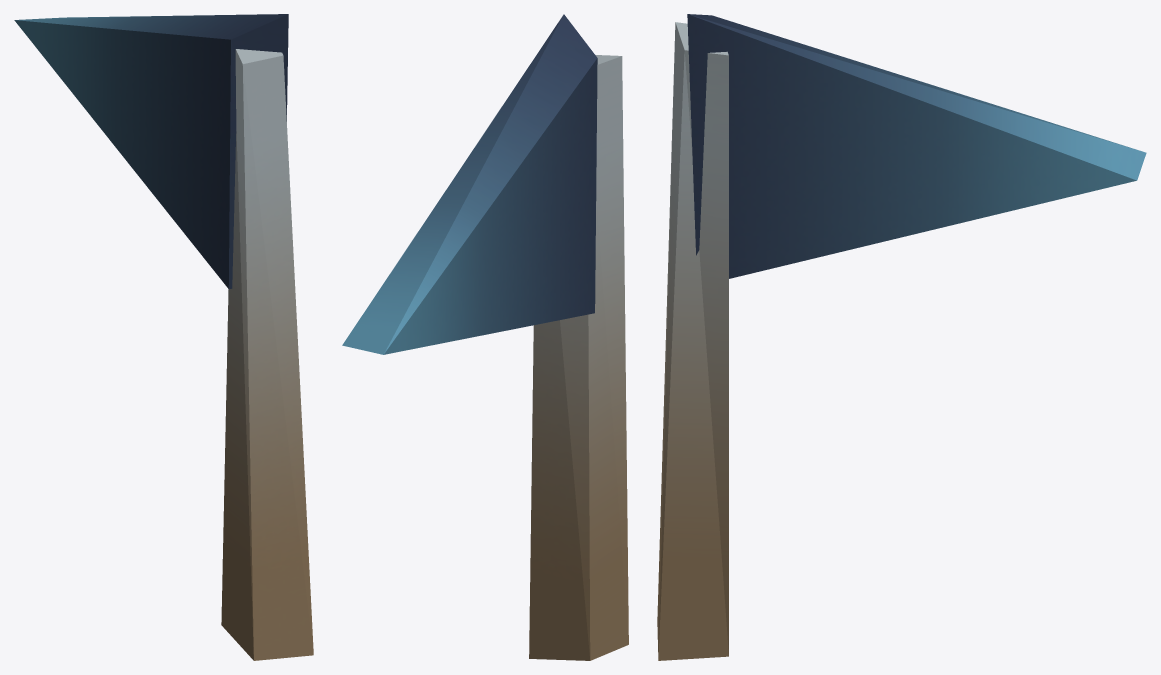
The model's file is blueWaypointlFlag_mdl.FBX.
3 renders of one model, left to right at view 1: azimuth 30°, elevation 25°; view 2: azimuth 150°, elevation 25°; view 3: azimuth 270°, elevation 25°, orthographic.
Parts seen in each view (by area): view 1: blueWaypointlFlag_mdl; view 2: blueWaypointlFlag_mdl; view 3: blueWaypointlFlag_mdl.
Part boxes in pixels (box(x1,y1,x2,y2)): blueWaypointlFlag_mdl: box(14, 14, 313, 660); blueWaypointlFlag_mdl: box(342, 14, 628, 660); blueWaypointlFlag_mdl: box(657, 14, 1146, 660).
Bounding box in the file's own units: 1.27 × 11.64 × 8.05.
1 material, 1 textured.
